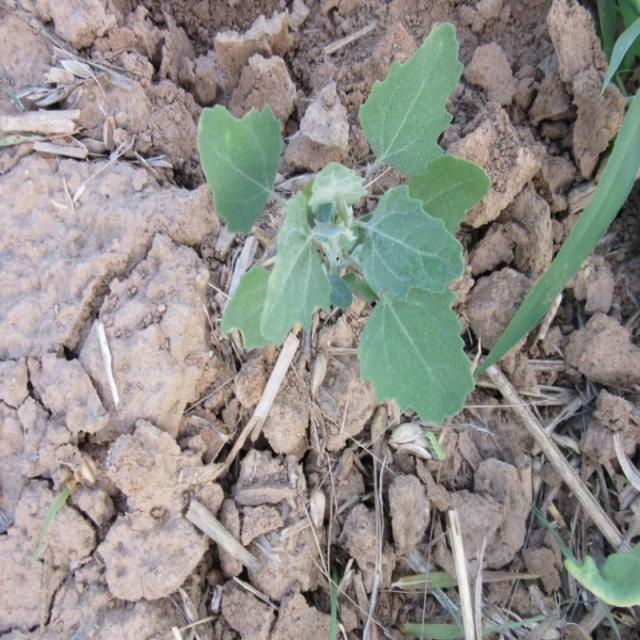ca: (197, 27, 477, 429)
